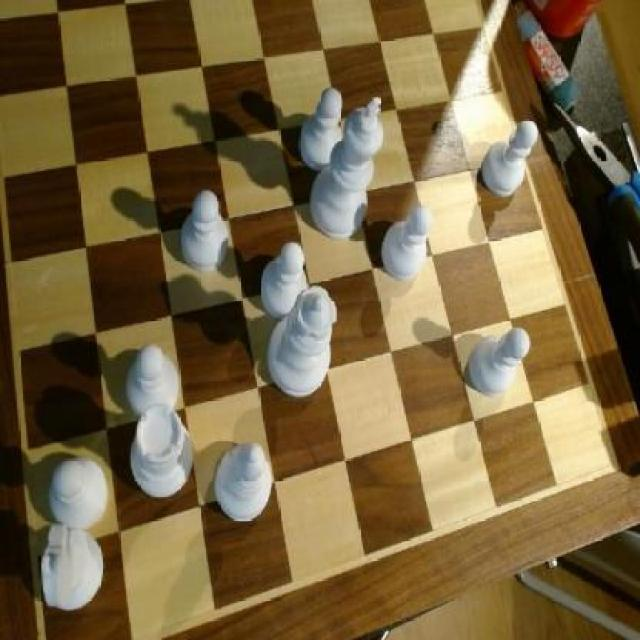black-rook: (211, 437, 277, 528)
white-bishop: (309, 89, 381, 240)
white-king: (34, 524, 107, 616)
white-knight: (482, 106, 540, 209), (49, 452, 113, 536), (182, 192, 240, 277), (465, 326, 533, 396), (125, 342, 183, 422), (297, 88, 346, 180), (258, 242, 312, 322), (383, 202, 434, 282)
white-pawn: (268, 277, 338, 405)
white-queen: (124, 404, 198, 500)
